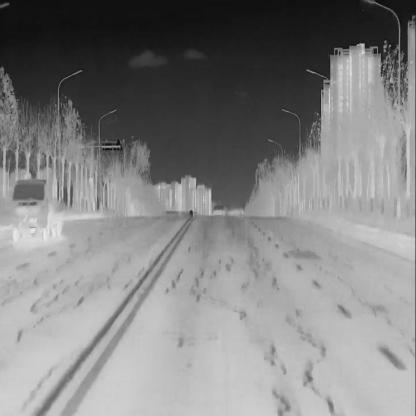car: (212, 203, 225, 217)
truck: (9, 174, 64, 242)
